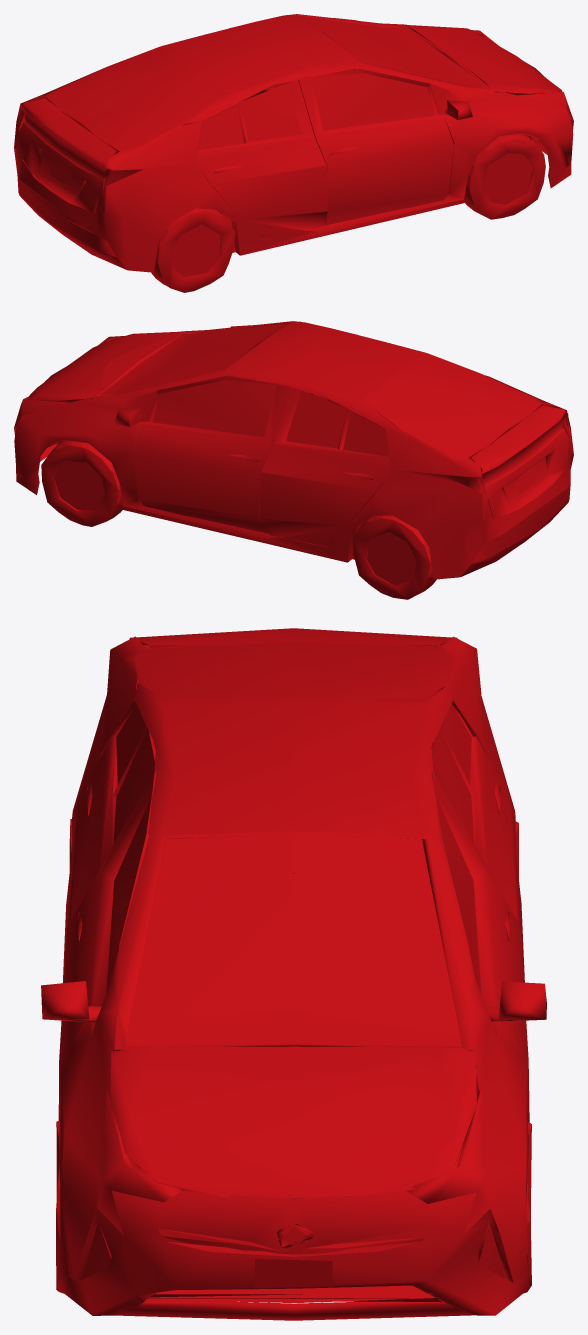
Rendered from toyota.fbx.
The picture shows the model from 3 angles, top to bottom: view 1: azimuth 30°, elevation 25°; view 2: azimuth 150°, elevation 25°; view 3: azimuth 270°, elevation 25°; orthographic projection. The views are drawn at different scales.
Parts seen in each view (by area): view 1: Vh_Car_ToyotaPrius_NOrig_2505_LOD3; view 2: Vh_Car_ToyotaPrius_NOrig_2505_LOD3; view 3: Vh_Car_ToyotaPrius_NOrig_2505_LOD3.
Boxes of the visible parts, x1,y1,x2,y2 form: Vh_Car_ToyotaPrius_NOrig_2505_LOD3: (14,14,573,292); Vh_Car_ToyotaPrius_NOrig_2505_LOD3: (14,321,573,599); Vh_Car_ToyotaPrius_NOrig_2505_LOD3: (41,628,546,1320).
Size of the model in its own units: 452 by 200 by 153.
